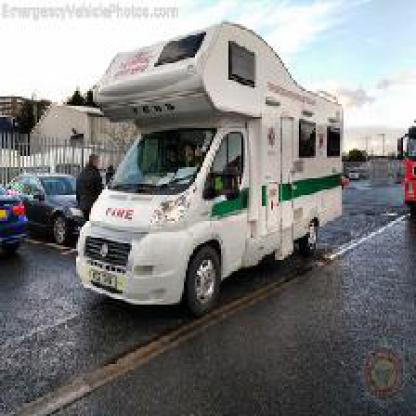emergency: (74, 19, 349, 320)
